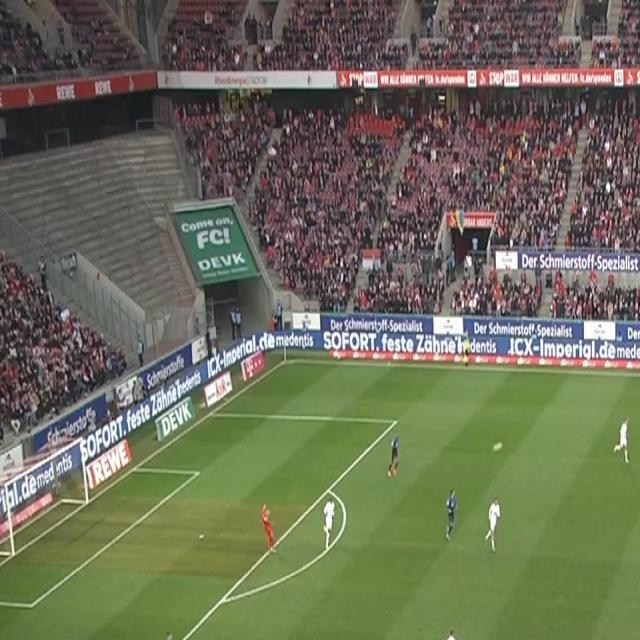ball: (491, 440, 504, 456)
